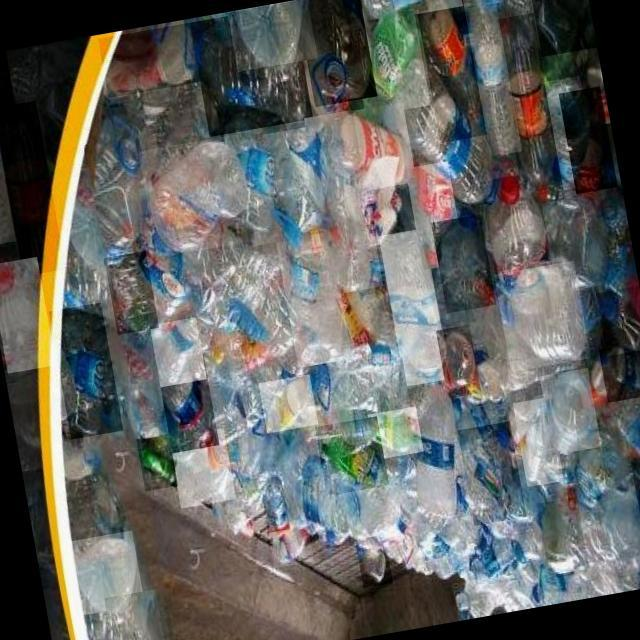defected: (189, 4, 313, 136), (304, 109, 384, 294), (138, 133, 256, 257), (0, 100, 65, 276), (494, 260, 590, 372), (276, 232, 352, 368), (262, 122, 348, 242), (48, 302, 123, 439), (83, 134, 158, 265), (347, 0, 431, 116), (296, 0, 377, 106), (326, 102, 416, 195), (479, 172, 554, 282), (304, 356, 411, 428), (457, 419, 526, 525), (405, 160, 465, 270), (68, 528, 144, 614), (558, 86, 618, 194), (431, 214, 496, 313), (227, 0, 317, 71), (233, 134, 290, 246), (544, 75, 599, 190), (156, 354, 219, 453), (314, 416, 388, 496), (169, 428, 237, 508), (539, 368, 601, 454), (566, 425, 628, 505), (513, 396, 565, 486), (104, 250, 159, 334), (536, 496, 590, 578), (524, 0, 596, 56), (150, 316, 207, 386), (258, 374, 318, 433), (104, 588, 169, 640), (436, 324, 480, 398), (595, 285, 640, 356), (461, 532, 518, 588), (367, 406, 423, 460), (418, 524, 464, 584), (598, 340, 640, 402), (136, 433, 178, 491), (266, 518, 314, 568), (359, 0, 463, 23), (316, 486, 352, 548), (452, 576, 500, 620), (354, 534, 392, 588), (0, 112, 15, 246), (258, 475, 290, 532), (0, 50, 18, 132), (630, 456, 640, 517)
good: (388, 64, 500, 224), (492, 12, 566, 206), (378, 228, 450, 386), (398, 381, 473, 524), (415, 0, 489, 142), (460, 0, 522, 156), (98, 23, 200, 98), (0, 256, 55, 373)
